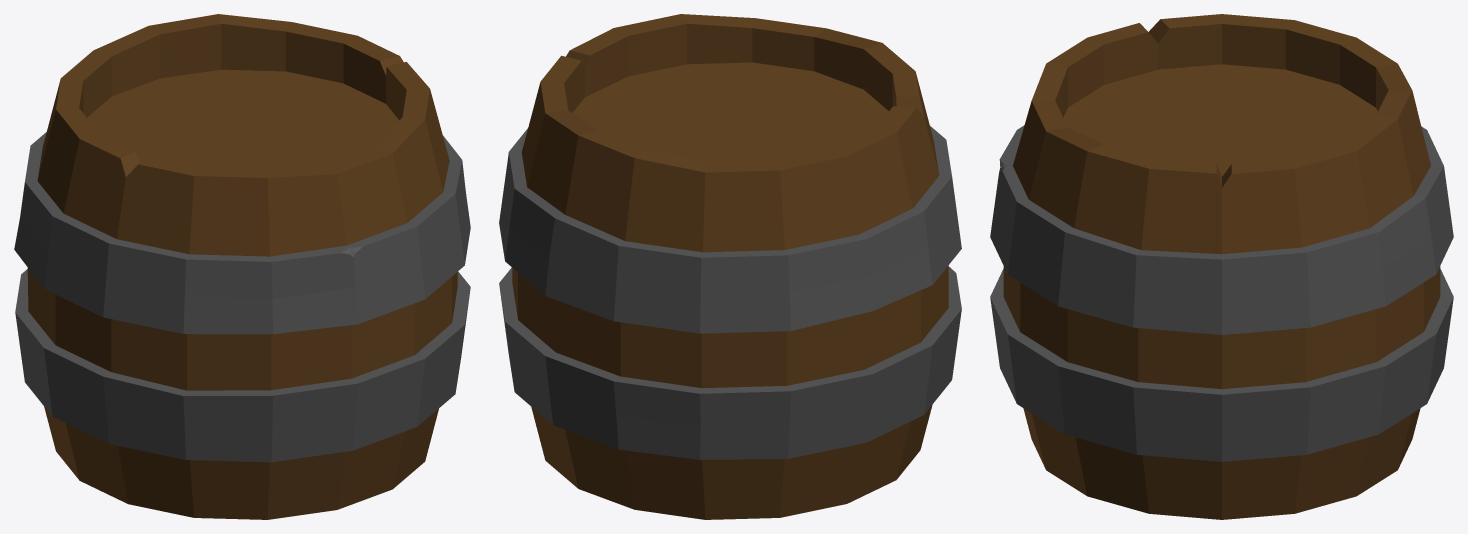
The model's file is barrel_scuffed.glb.
3 views of the same model, side by side, from view 1: azimuth 30°, elevation 25°; view 2: azimuth 150°, elevation 25°; view 3: azimuth 270°, elevation 25° (orthographic).
Visible parts, largest first — view 1: Cylinder; view 2: Cylinder; view 3: Cylinder.
Part boxes in pixels (left/top/right/bottom): Cylinder: left=14, top=14, right=470, bottom=519; Cylinder: left=499, top=14, right=961, bottom=519; Cylinder: left=990, top=14, right=1453, bottom=519.
Size of the model in its own units: 2.44 by 2.03 by 2.44.
